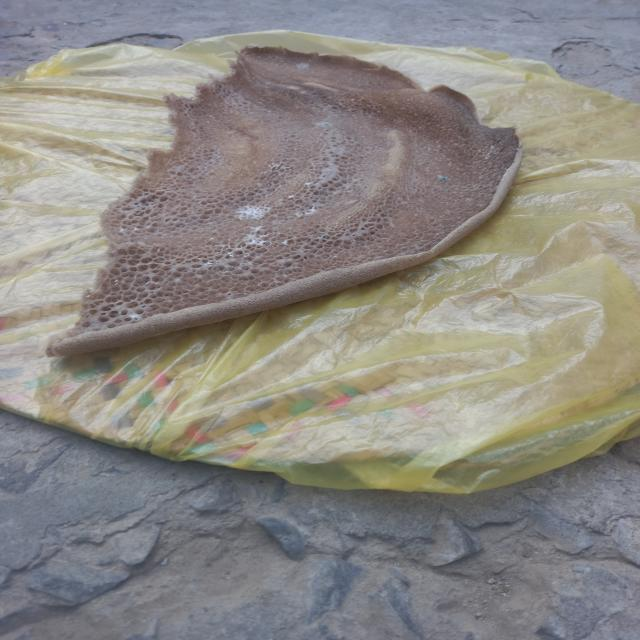injera_mold: (240, 204, 275, 219), (243, 230, 268, 246), (294, 60, 316, 71), (266, 160, 284, 172), (202, 256, 216, 268), (436, 172, 448, 185), (304, 204, 318, 215), (218, 242, 234, 251), (316, 233, 331, 241), (315, 120, 335, 126), (279, 238, 293, 246), (225, 251, 238, 259), (489, 144, 496, 158), (128, 312, 140, 320), (206, 236, 218, 243), (303, 181, 316, 187), (132, 226, 142, 233), (230, 265, 240, 272), (112, 278, 120, 286), (286, 194, 296, 200), (218, 270, 231, 274), (119, 227, 126, 234), (85, 294, 93, 300), (286, 165, 292, 172), (282, 273, 288, 279), (269, 240, 274, 247), (155, 248, 162, 253), (144, 281, 154, 284), (174, 278, 180, 282)
